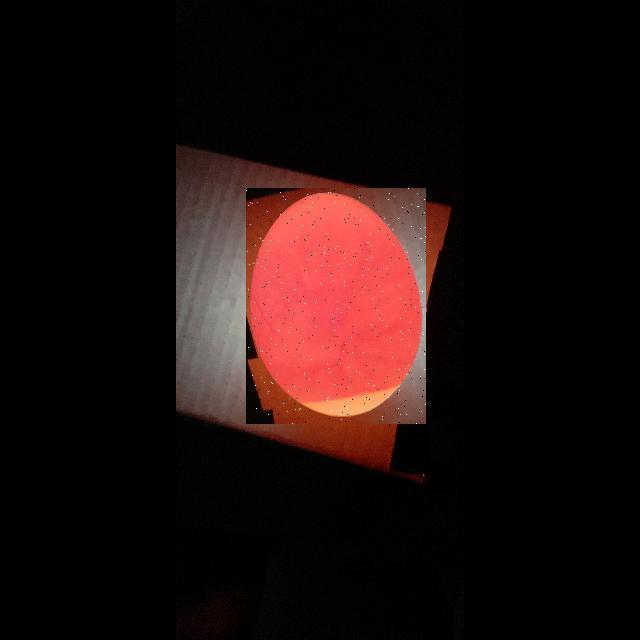Fertile: (246, 188, 426, 424)
